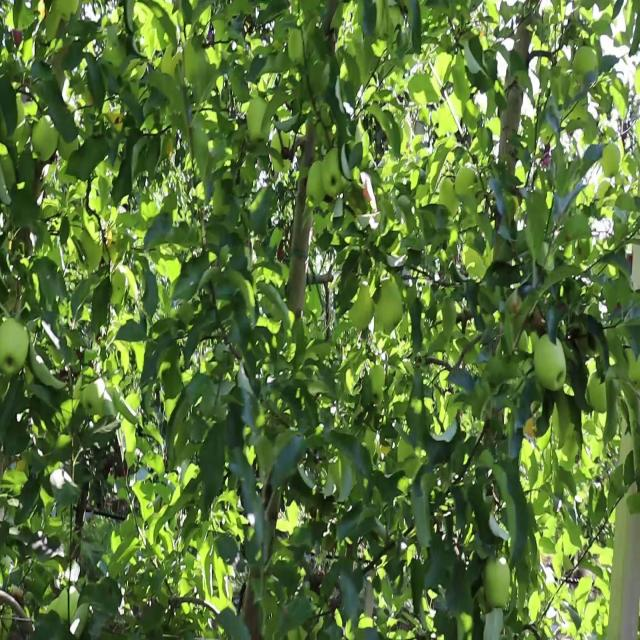apple: (533, 330, 569, 396), (482, 551, 514, 611), (372, 277, 405, 331), (0, 318, 30, 376), (571, 42, 602, 90), (31, 113, 57, 168), (456, 161, 482, 210), (246, 96, 271, 146), (349, 281, 374, 331), (323, 148, 346, 196), (304, 160, 326, 208), (586, 366, 608, 414), (82, 376, 104, 419), (440, 173, 457, 224), (367, 361, 387, 402), (57, 123, 78, 162), (601, 143, 621, 180)
